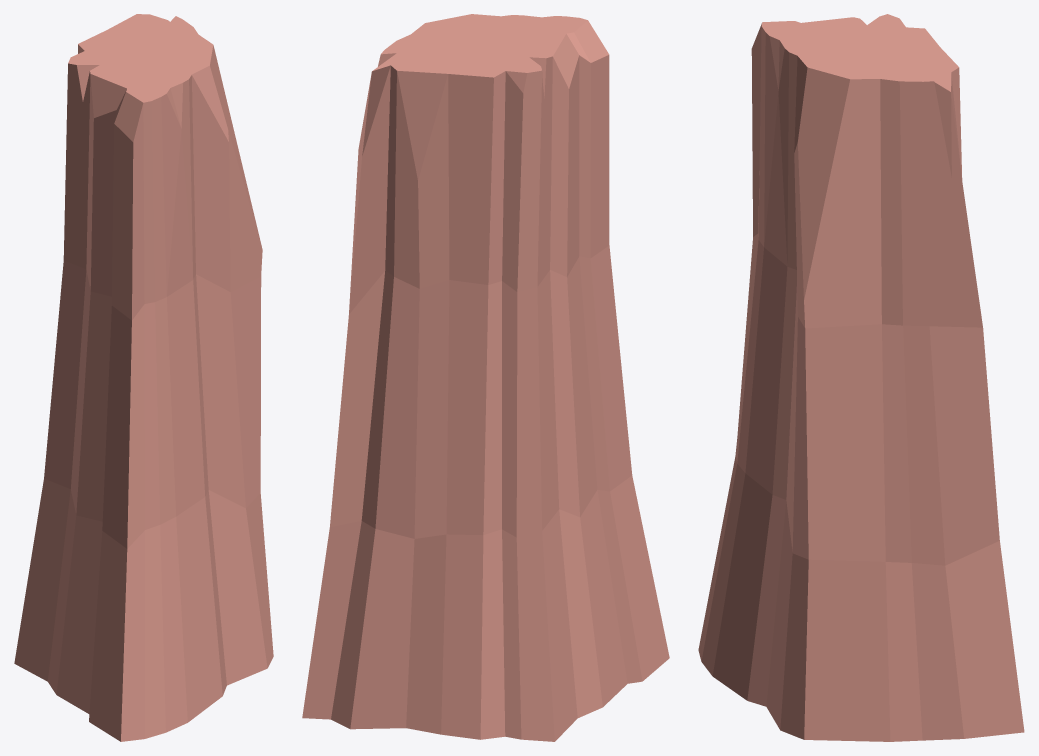
File: Romb_V4_Vlad.fbx
3 renders of one model, left to right at view 1: azimuth 30°, elevation 25°; view 2: azimuth 150°, elevation 25°; view 3: azimuth 270°, elevation 25°, orthographic. The views are drawn at different scales.
Parts seen in each view (by area): view 1: Romb_V4; view 2: Romb_V4; view 3: Romb_V4.
Boxes of the visible parts, box(x1,y1,x2,y2) form: Romb_V4: box(14, 14, 273, 741); Romb_V4: box(302, 14, 669, 741); Romb_V4: box(698, 14, 1024, 741).
Bounding box in the file's own units: 111 × 309 × 142.
